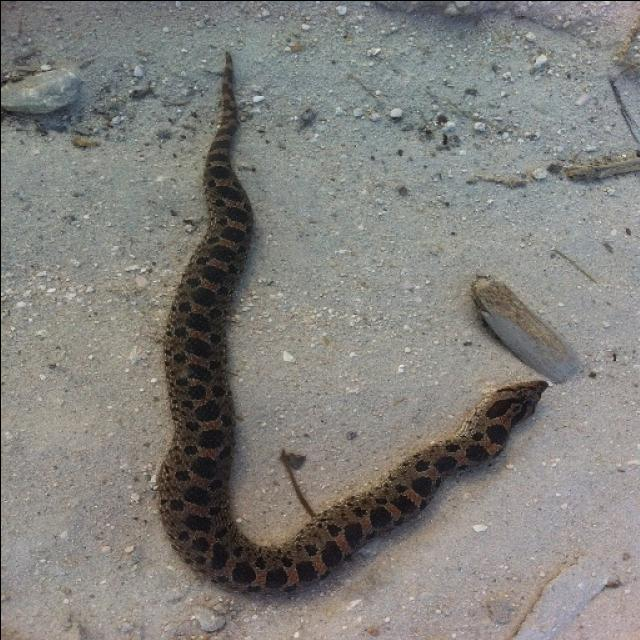snake: (126, 59, 560, 609)
